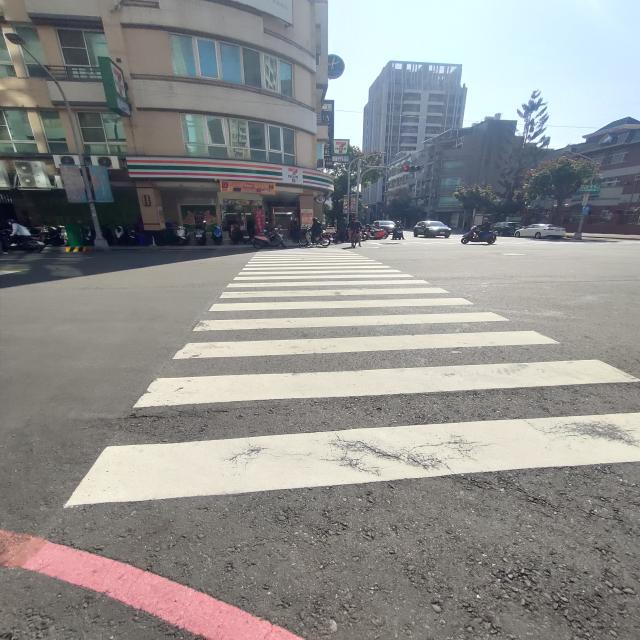zebra_crossing: (236, 120, 640, 365), (179, 120, 558, 365), (224, 120, 475, 366)
